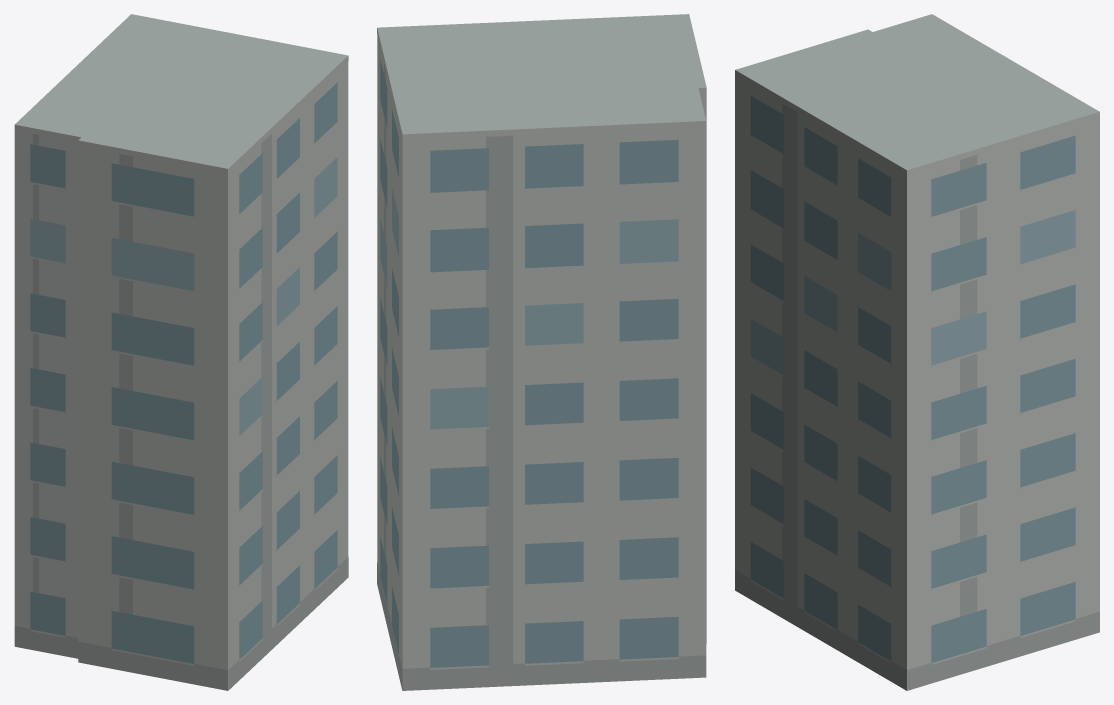
File: survey-upis-32561126.glb
The picture shows the model from 3 angles, left to right: view 1: azimuth 30°, elevation 25°; view 2: azimuth 150°, elevation 25°; view 3: azimuth 270°, elevation 25°; orthographic projection. The views are drawn at different scales.
Visible parts, largest first — view 1: survey-upis-32561126.tmp; view 2: survey-upis-32561126.tmp; view 3: survey-upis-32561126.tmp.
Part boxes in pixels (x1,y1,x2,y2): survey-upis-32561126.tmp: [14, 14, 348, 690]; survey-upis-32561126.tmp: [377, 14, 706, 690]; survey-upis-32561126.tmp: [735, 14, 1099, 690].
Size of the model in its own units: 14.21 by 22.05 by 14.01.
